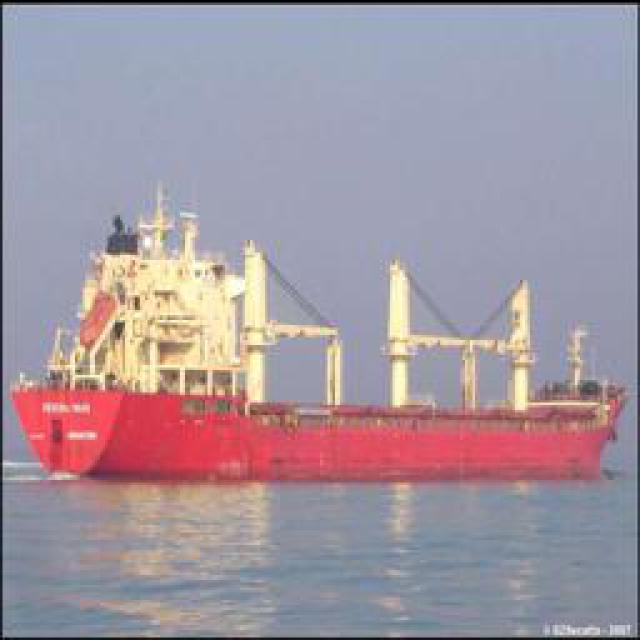Ship: (23, 180, 591, 478)
